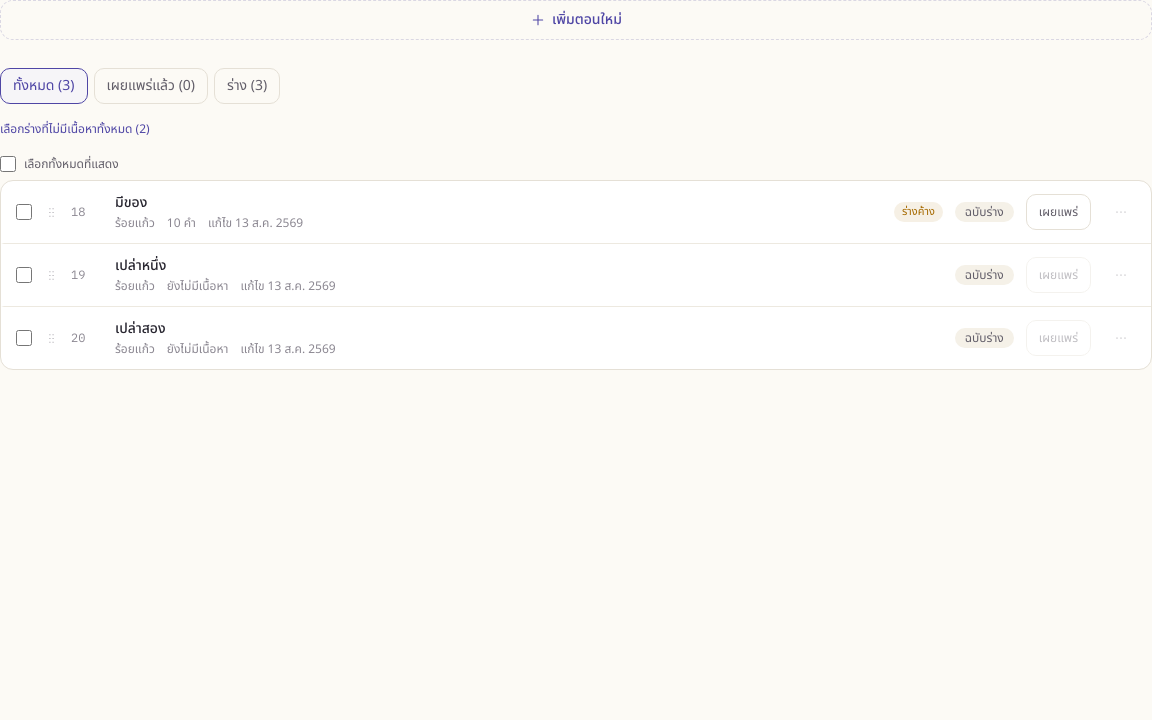
Test: scale: tabs, selection, reorder › offers the one-click cleanup of empty drafts
Click the button "เลือกร่างที่ไม่มีเนื้อหาทั้งหมด (2)": (75, 129) 0,121 -> 150,137
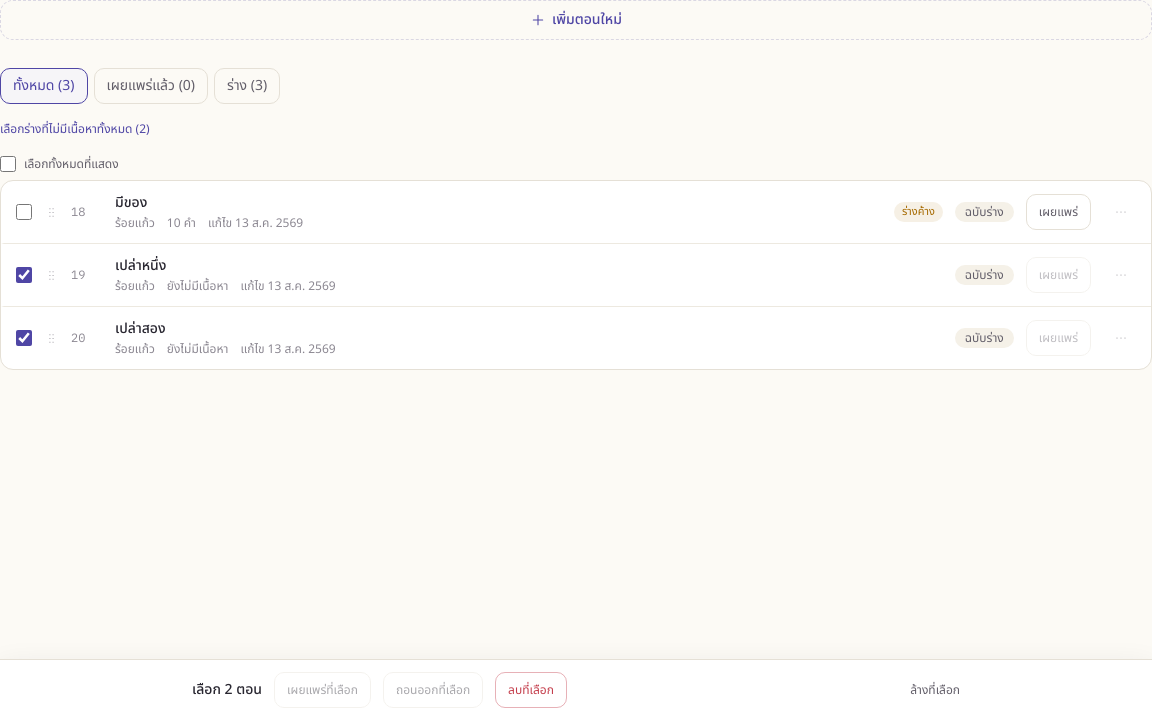
Expected: the text "เลือก 2 ตอน" is shown, 192,680 -> 262,700
